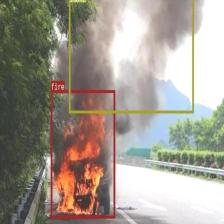fire: (50, 90, 115, 218)
smoke: (68, 0, 194, 113)
